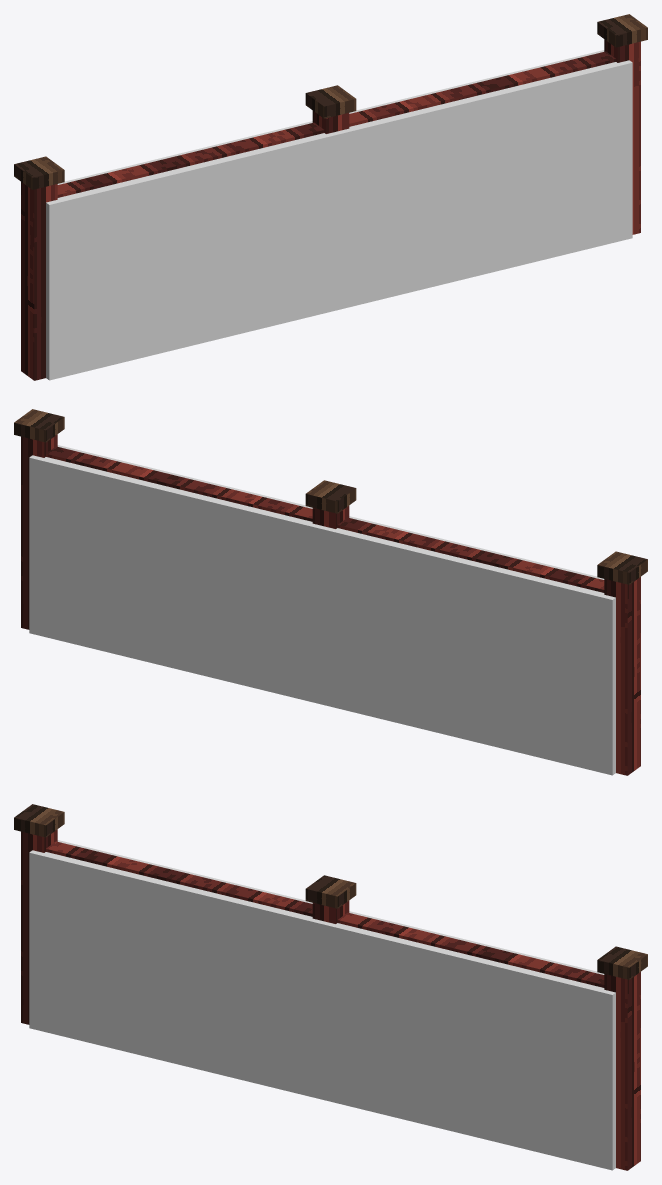
Rendered from JP_Fence_Vermilion_4m.glb.
The picture shows the model from 3 angles, top to bottom: view 1: azimuth 30°, elevation 25°; view 2: azimuth 150°, elevation 25°; view 3: azimuth 330°, elevation 25°; orthographic projection.
Visible parts, largest first — view 1: COL_JP_Fence_Vermilion_4m, JP_Fence_Vermilion_4m; view 2: COL_JP_Fence_Vermilion_4m, JP_Fence_Vermilion_4m; view 3: COL_JP_Fence_Vermilion_4m, JP_Fence_Vermilion_4m.
Boxes of the visible parts, box(x1,y1,x2,y2) form: COL_JP_Fence_Vermilion_4m: box(46, 50, 632, 380); JP_Fence_Vermilion_4m: box(14, 14, 647, 380); COL_JP_Fence_Vermilion_4m: box(29, 445, 615, 775); JP_Fence_Vermilion_4m: box(14, 409, 647, 775); COL_JP_Fence_Vermilion_4m: box(29, 840, 615, 1170); JP_Fence_Vermilion_4m: box(14, 804, 647, 1170).
Bounding box in the file's own units: 4.22 × 1.35 × 0.24.
2 materials, 2 textured.
